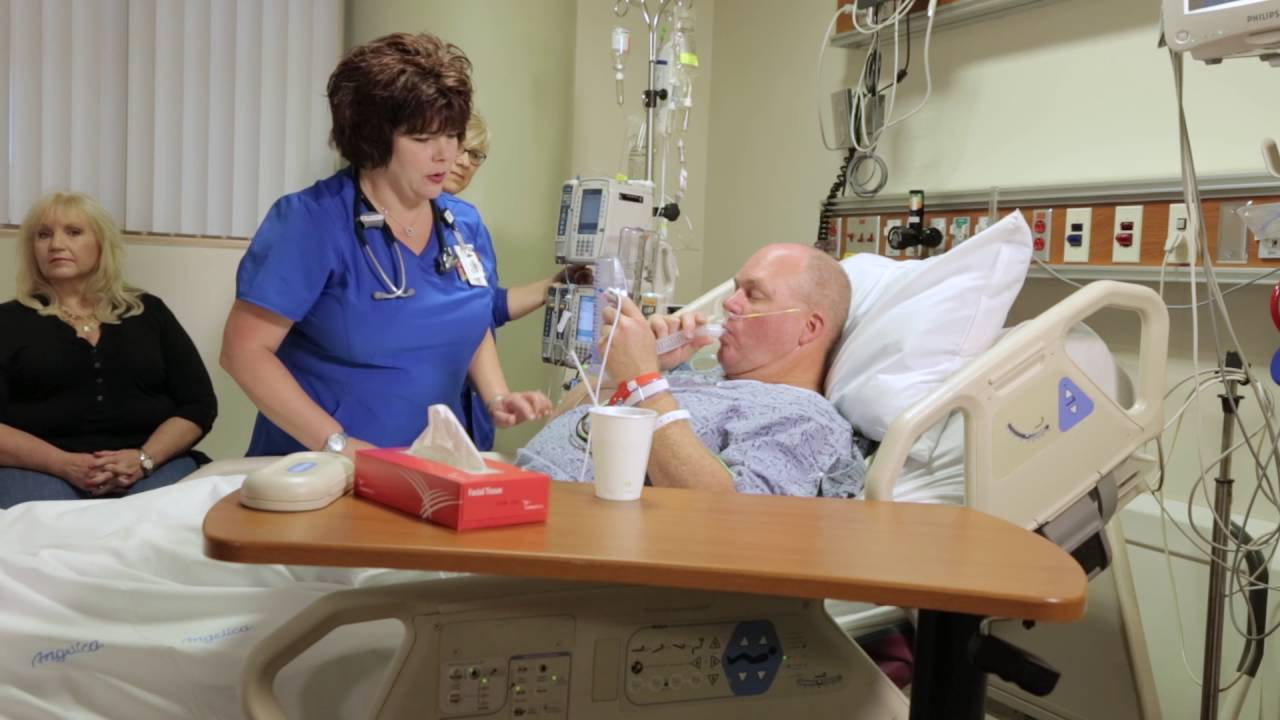bedrail: (865, 279, 1172, 608), (238, 575, 908, 720)
breathing_tube: (557, 320, 726, 408)
hospital_bed: (1, 208, 1172, 720)
iv_pole: (609, 1, 698, 306)
overbed_table: (203, 442, 1089, 617)
patient: (511, 242, 865, 498)
person: (443, 107, 593, 450)
staff: (219, 32, 555, 457)
syringe_pump: (550, 164, 655, 274), (541, 274, 614, 367)
visitor: (1, 189, 218, 509)
